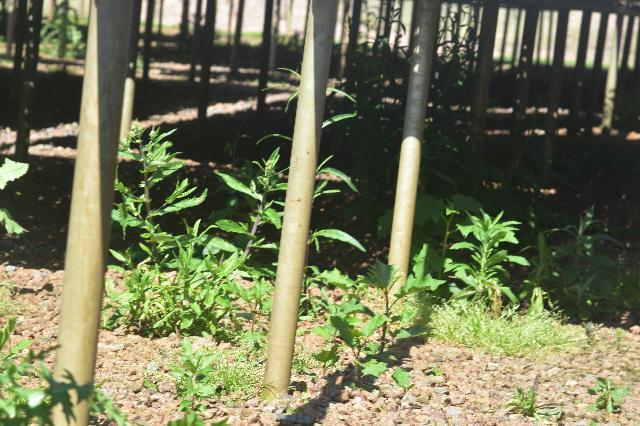MalezaMontesDelPlata: (106, 127, 287, 332), (415, 23, 538, 297), (307, 254, 447, 386), (0, 310, 130, 426), (337, 29, 390, 267), (396, 293, 590, 357), (442, 207, 527, 345), (526, 202, 614, 325), (156, 338, 223, 426), (201, 331, 275, 396), (501, 381, 565, 423), (585, 374, 635, 417)
